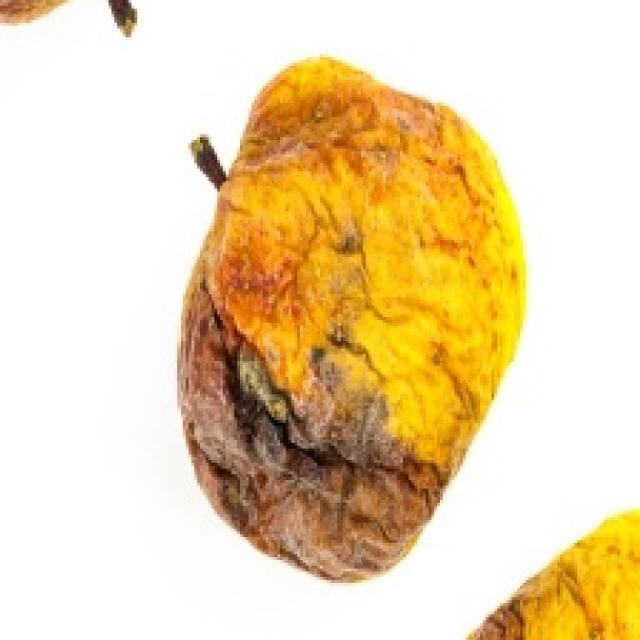rotten_apple: (189, 61, 528, 576)
